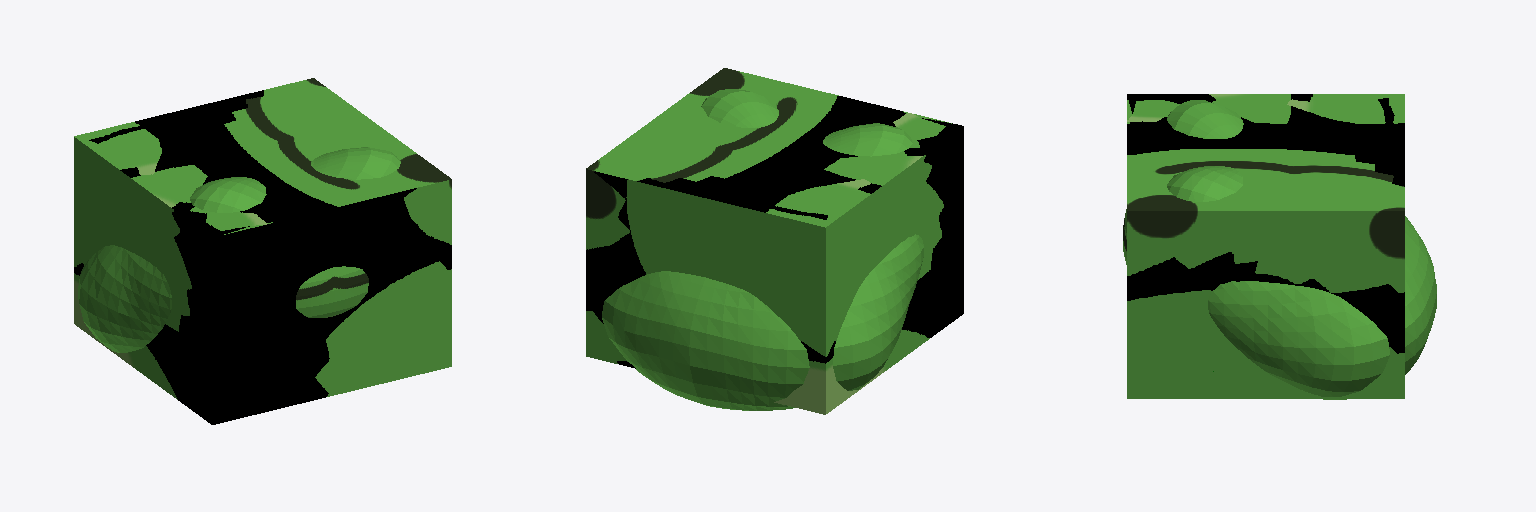
The picture shows the model from 3 angles: view 1: azimuth 30°, elevation 25°; view 2: azimuth 150°, elevation 25°; view 3: azimuth 270°, elevation 25°; orthographic projection.
Visible parts, largest first — view 1: UCX_frog_00, Sphere; view 2: UCX_frog_00, Sphere; view 3: UCX_frog_00, Sphere.
Part boxes in pixels (left/top/right/bottom): UCX_frog_00: left=74, top=78, right=451, bottom=424; Sphere: left=78, top=147, right=400, bottom=352; UCX_frog_00: left=586, top=68, right=963, bottom=414; Sphere: left=602, top=89, right=923, bottom=410; UCX_frog_00: left=1127, top=94, right=1404, bottom=398; Sphere: left=1123, top=100, right=1436, bottom=399.
Size of the model in its own units: 2.11 by 1.64 by 2.03.
1 materials, 1 textured.